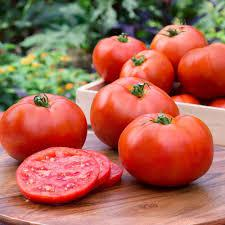tomato: (118, 114, 213, 186), (3, 94, 87, 163), (93, 77, 180, 143), (180, 42, 223, 99), (151, 25, 208, 66), (94, 34, 147, 77), (124, 50, 176, 93)
